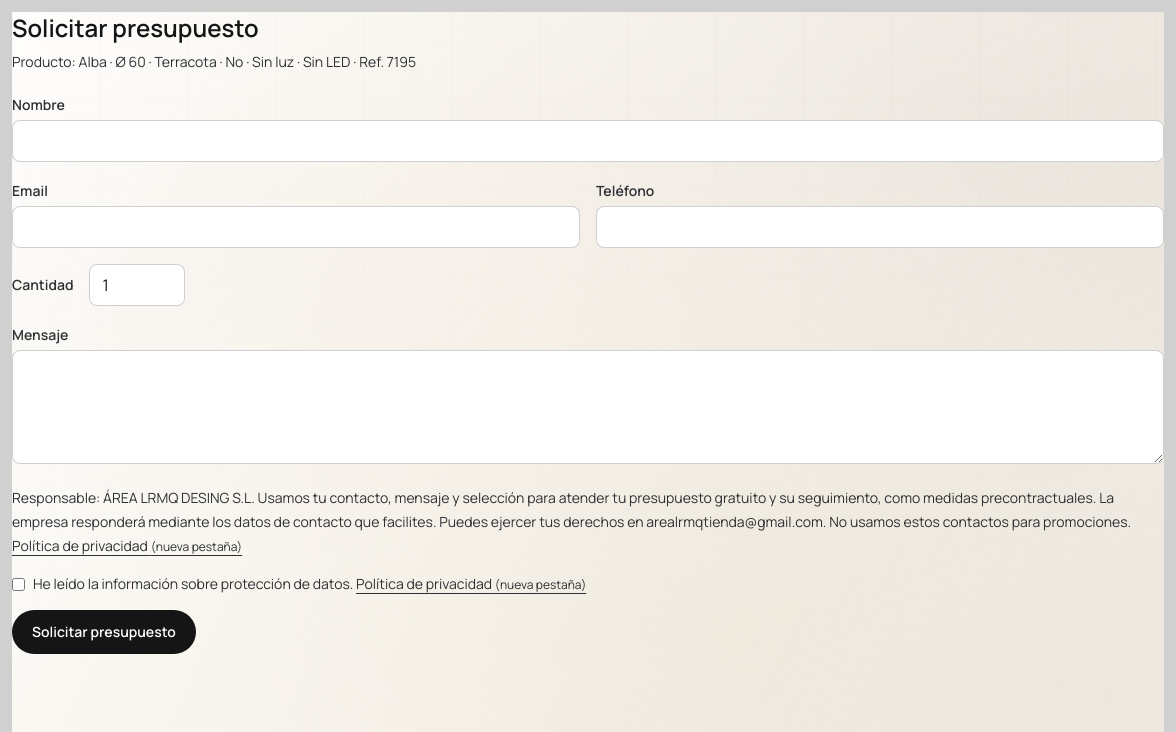
Test: QuoteRequestForm › sends the canonical public payload and clears fields only after 201
This screenshot has width=1176, height=732.
Type "Ana" into the field labelled "Nombre" at (588, 141), box x1=12 y1=120 x2=1164 y2=162
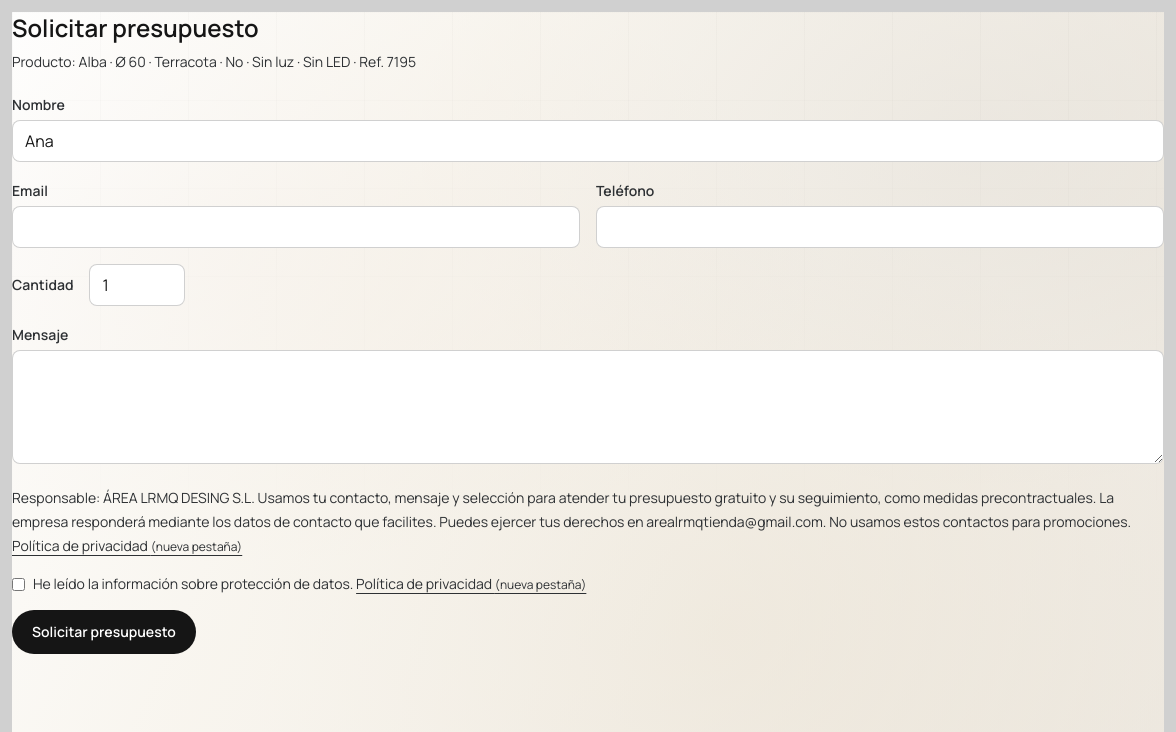
Type "ana@example.com" into the field labelled "Email" at (296, 227), box x1=12 y1=206 x2=580 y2=248
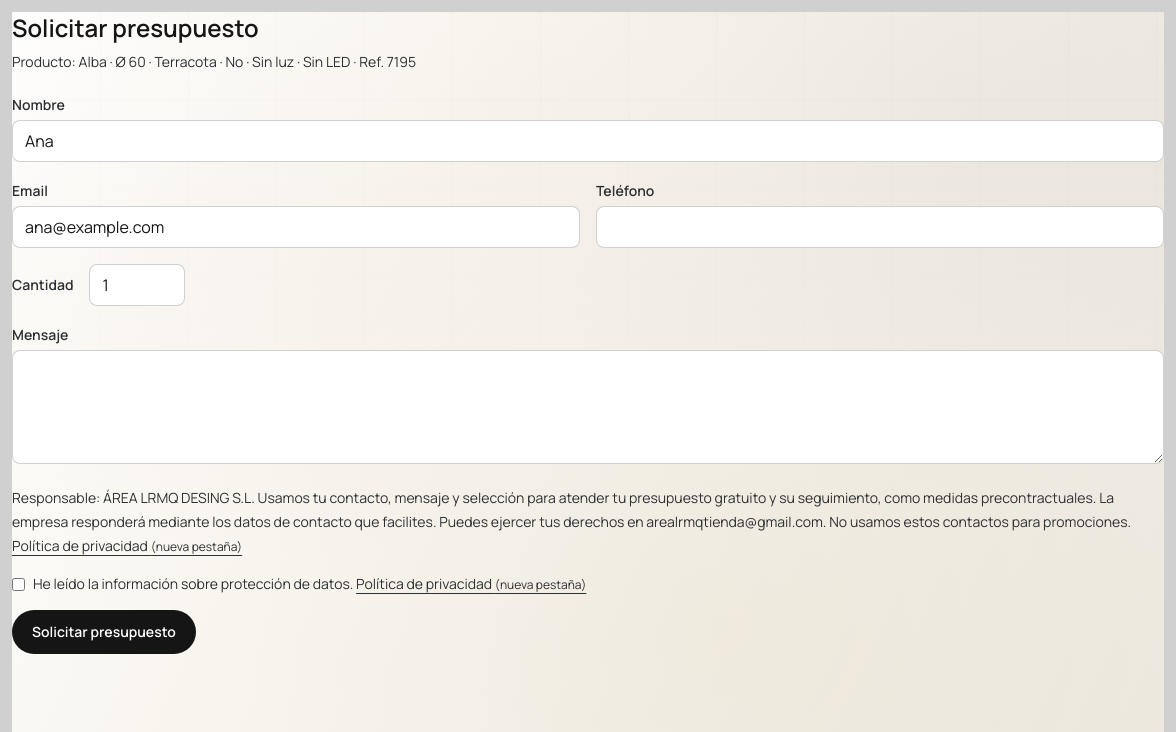
Click the checkbox at (18, 584), box x1=12 y1=578 x2=25 y2=591
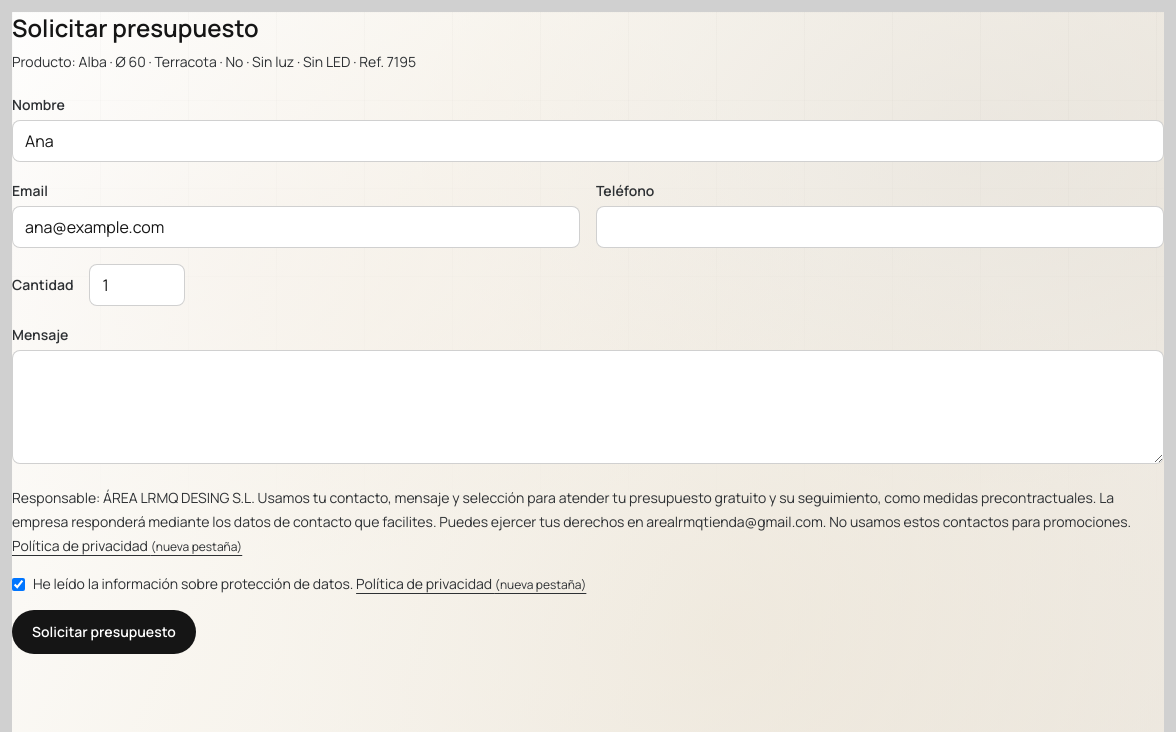
Click the button "Solicitar presupuesto" at (104, 632), box x1=12 y1=610 x2=196 y2=654
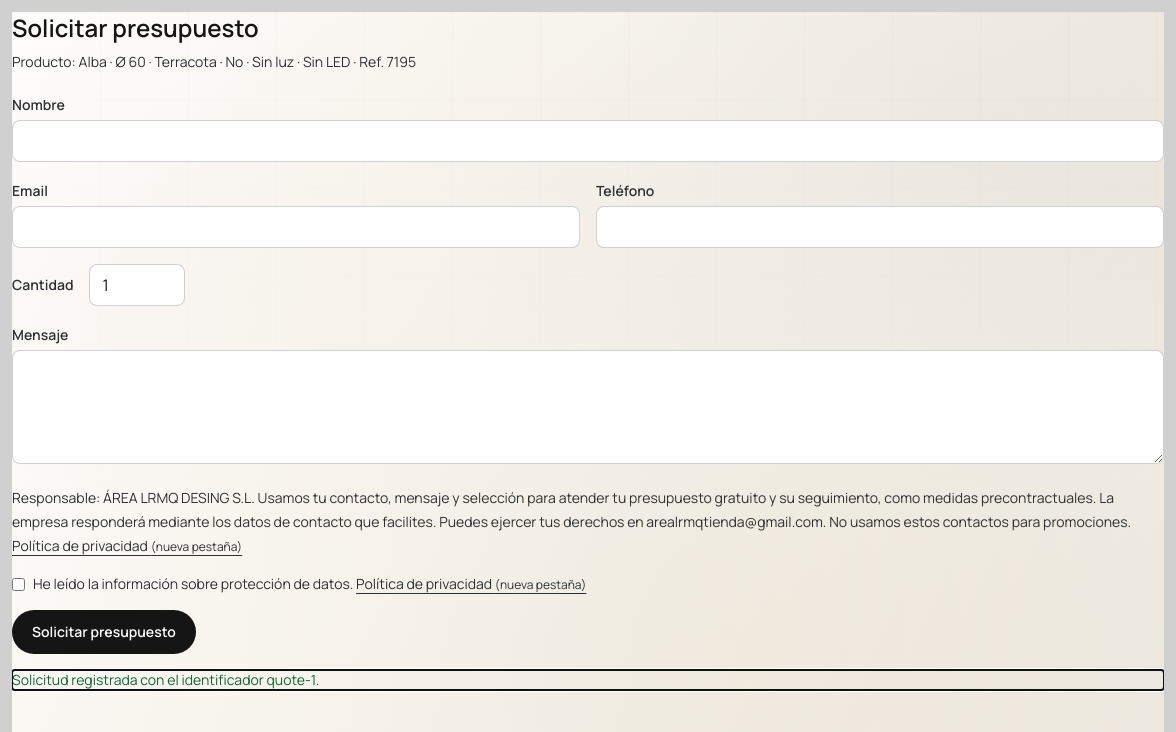
Check: the text "Solicitud registrada con el identificador quote-1." is shown, box x1=12 y1=670 x2=319 y2=689
Check: the field labelled "Nombre" is empty, box x1=12 y1=120 x2=1164 y2=162
